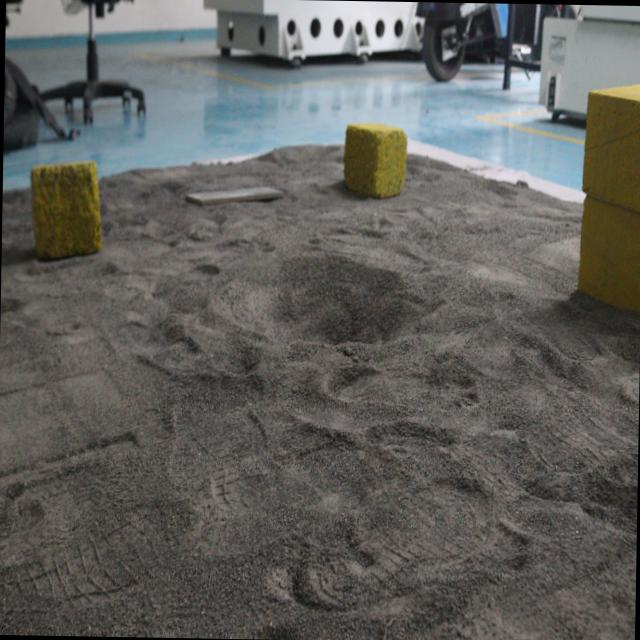box: (26, 141, 107, 275), (340, 122, 411, 201)
crater: (195, 236, 430, 370)
